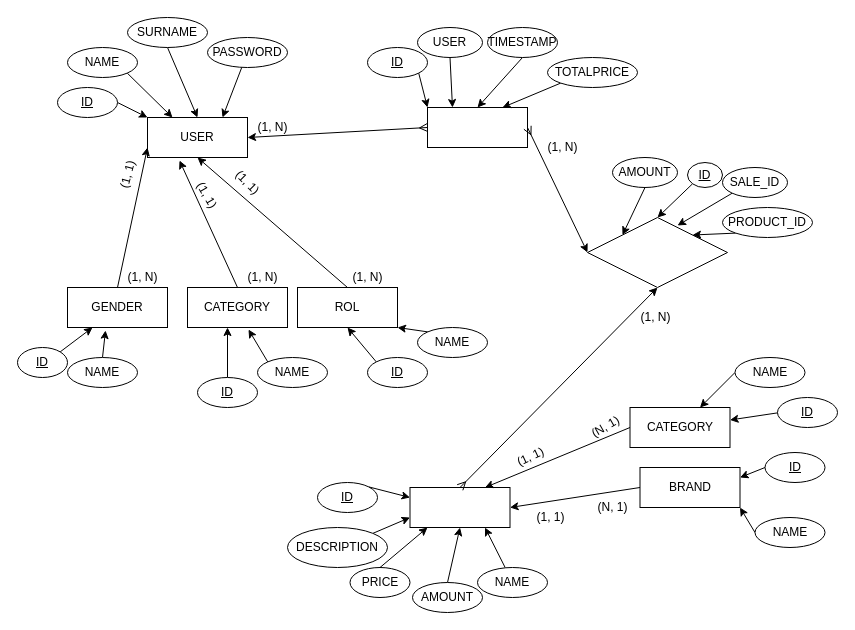
This 855x630 diagram has some shape labels left out. The centre of each missing label's shape, as x and y in pixels:
PRODUCT: point 459,507
SALE: point 477,127
SALEINFORMATION: point 657,252
